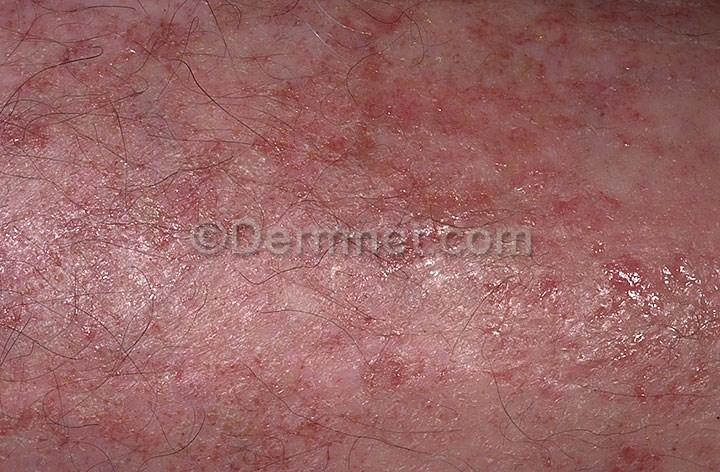Eczema: (41, 351, 388, 472), (572, 252, 720, 429), (262, 72, 429, 196), (0, 104, 110, 188)
